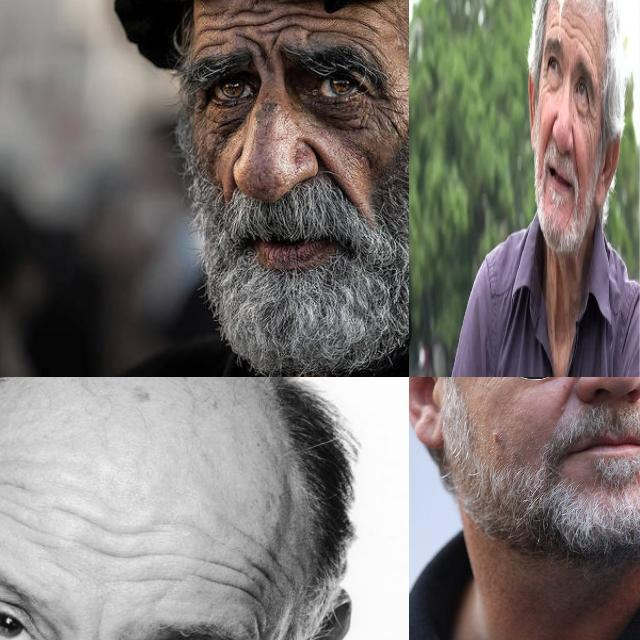chin: (566, 200, 573, 231)
crows_feet: (361, 90, 393, 128), (192, 88, 212, 124), (587, 98, 595, 133), (541, 62, 548, 94)
forehead: (212, 536, 278, 612), (71, 511, 143, 574), (0, 475, 36, 529), (280, 4, 346, 28), (249, 19, 301, 36), (309, 22, 351, 42), (193, 19, 243, 33), (197, 5, 231, 23), (192, 38, 224, 56), (238, 5, 274, 18), (580, 28, 592, 60), (564, 13, 576, 44), (550, 15, 560, 34)
frown_line: (251, 36, 269, 66)
gummy_smile: (308, 140, 347, 192), (560, 377, 583, 419), (571, 132, 578, 176), (545, 116, 552, 149)
